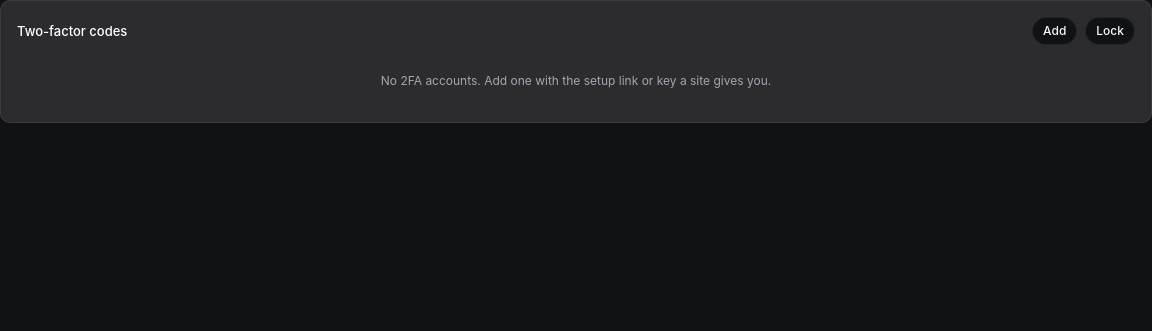
Test: AuthenticatorList › refuses a setup key that is not base32
Click the button "Add" at (1055, 31), box [1032, 17, 1077, 45]
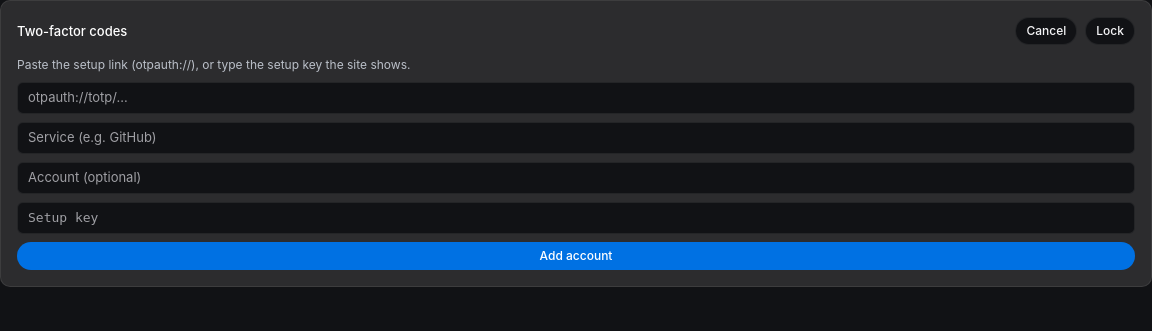
Type "Bank" into the field labelled "Service" at (576, 138), box [17, 122, 1135, 154]
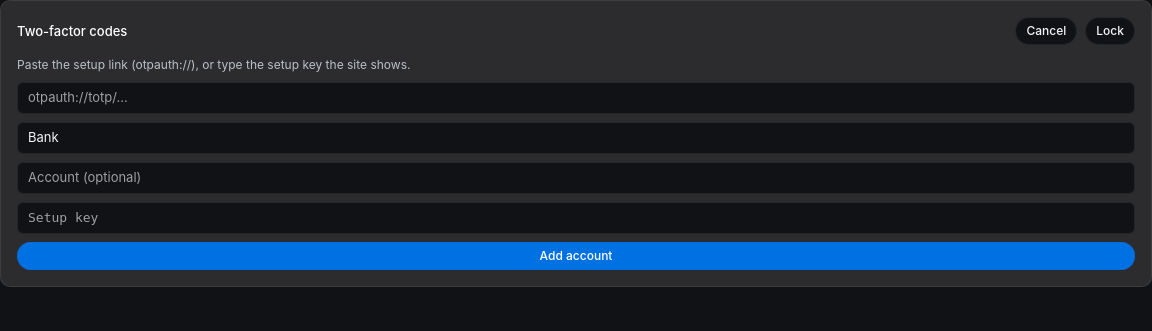
Type "0189-xyz" into the field labelled "Setup key" at (576, 218), box [17, 202, 1135, 234]
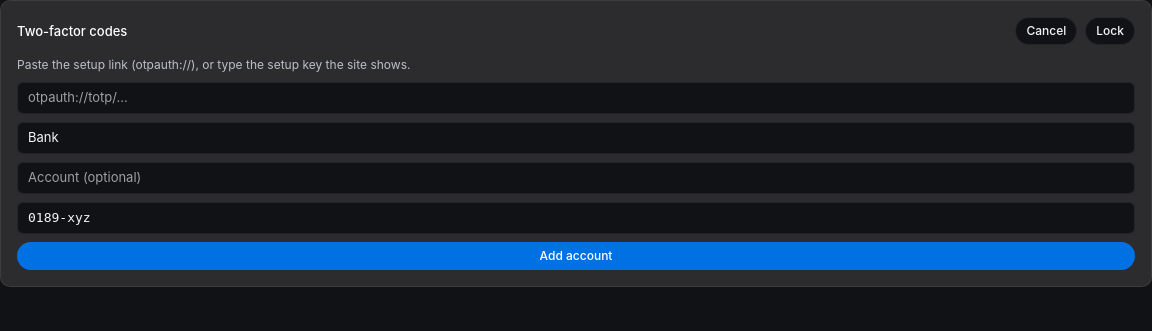
Click the button "Add account" at (576, 256), box [17, 242, 1135, 270]
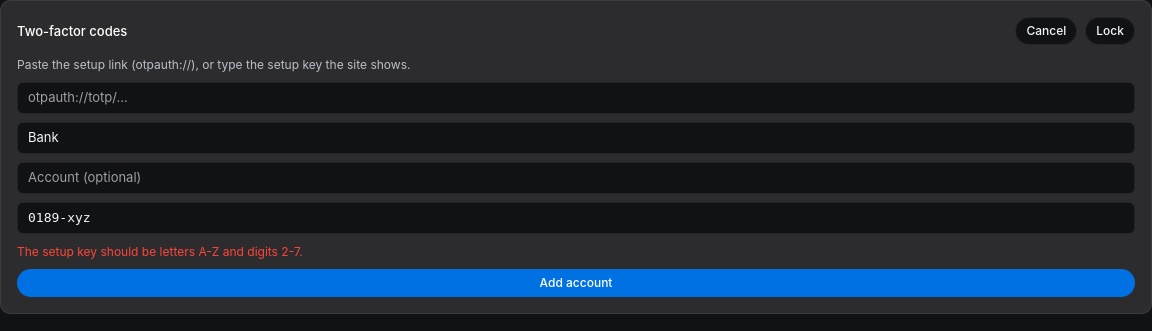
Expected: the message shows "letters A-Z and digits 2-7", [17, 244, 303, 259]
